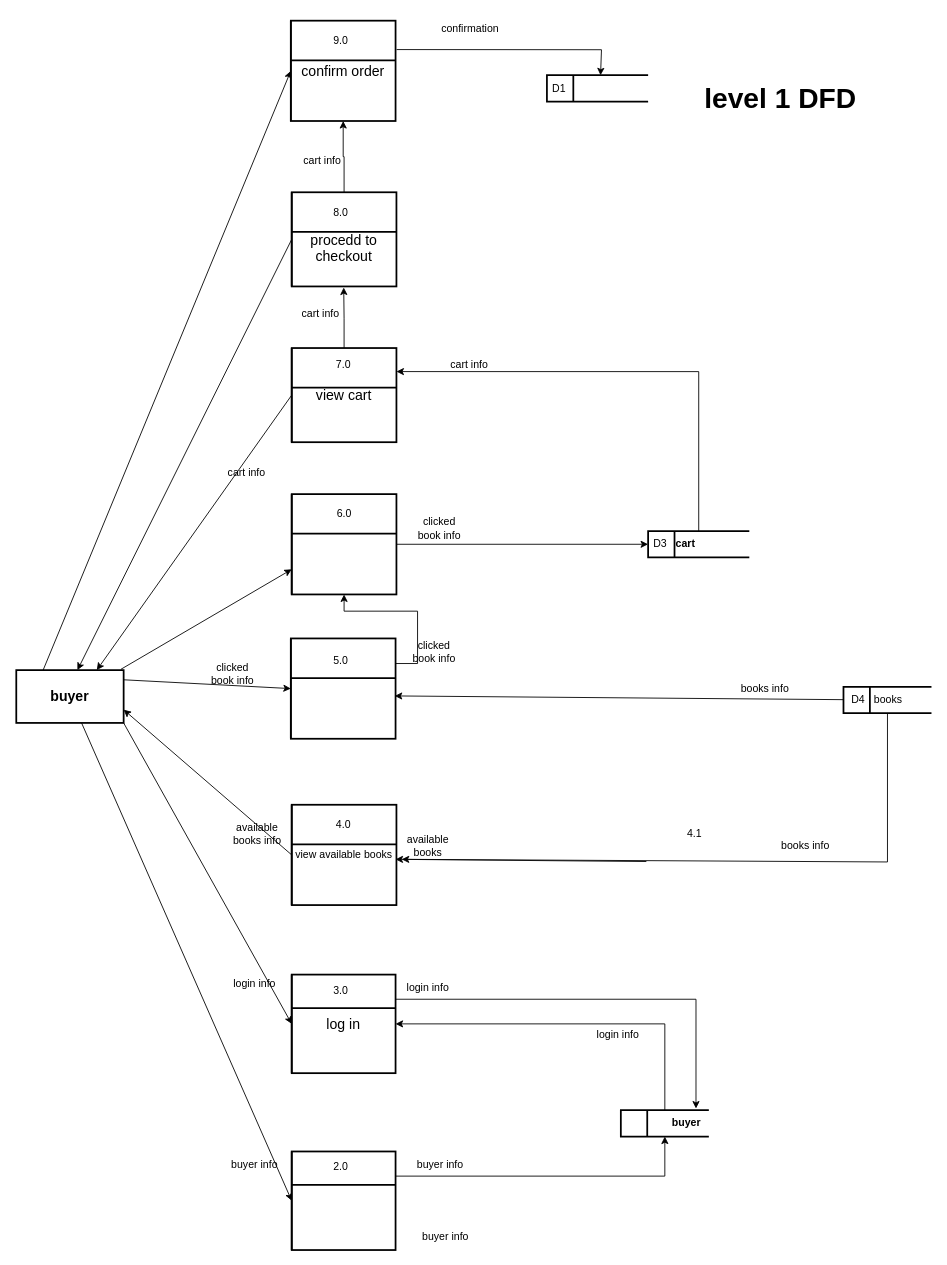
This 947x1265 diagram has some shape labels left out. Here are the shapes that lost their labels. From the top down, the box of each, then its label:
(546, 74, 649, 102): order
(290, 493, 397, 595): add to cart
(290, 637, 396, 739): view/ click book
(290, 1150, 396, 1250): create account
